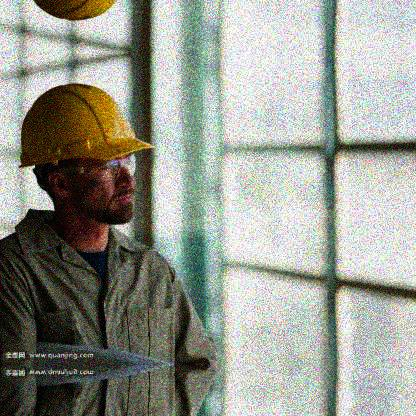helmet: (19, 82, 156, 226)
